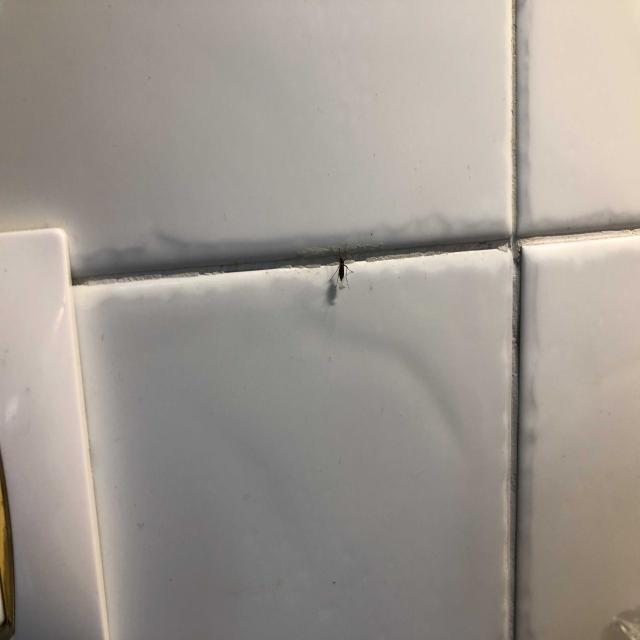albopictus: (329, 242, 357, 290)
